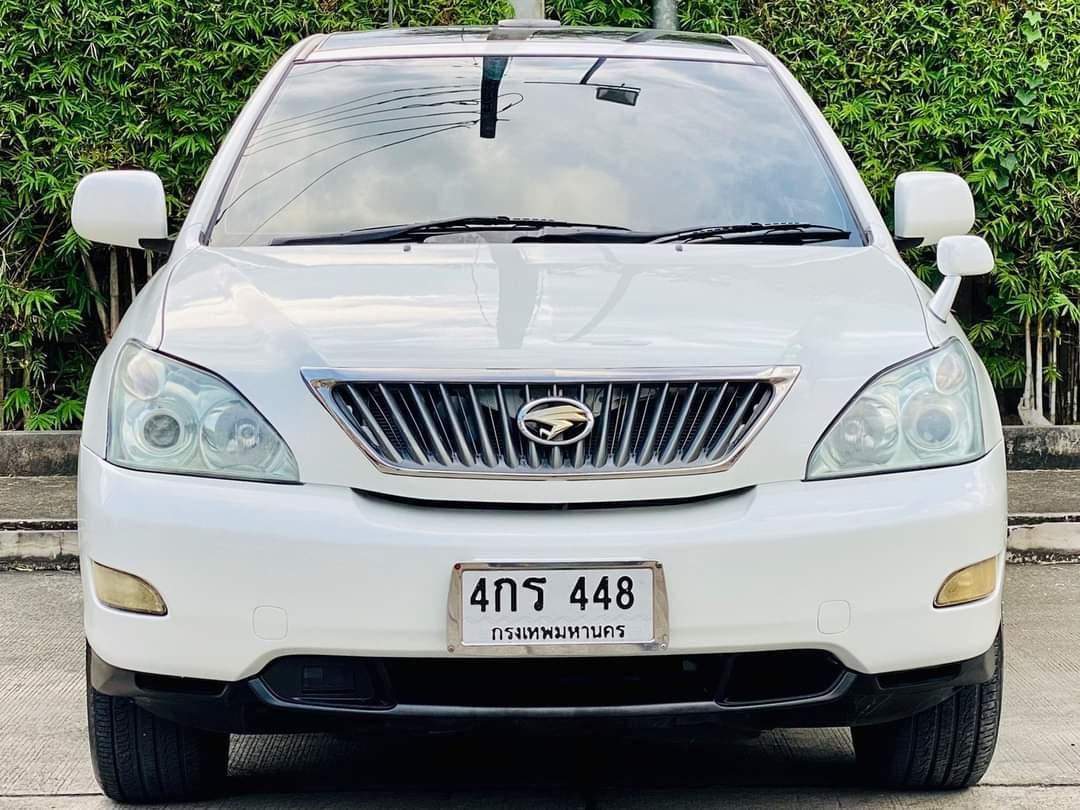license-plate: (444, 557, 671, 657)
